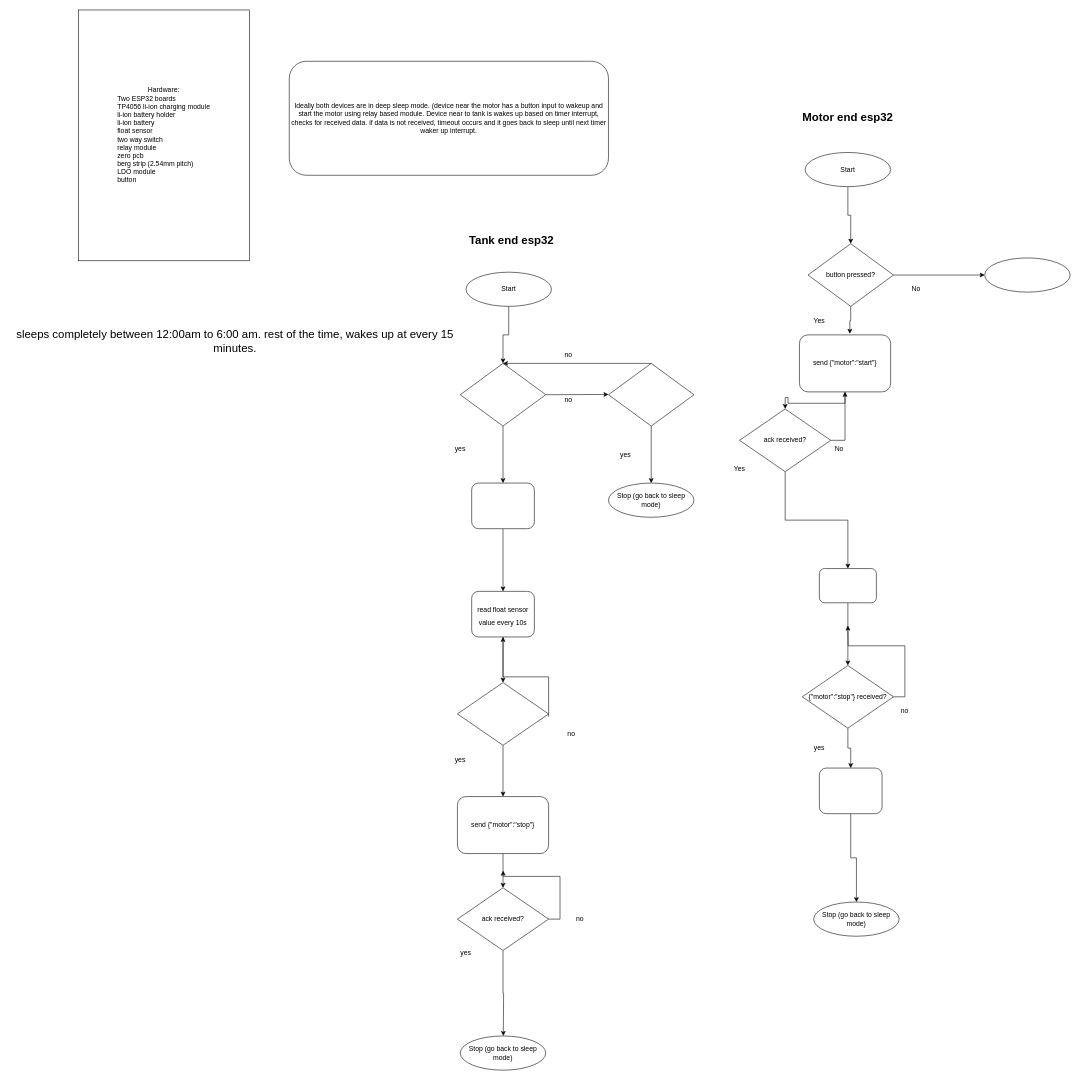
Some shapes in this 1080 by 1080 pixel diagram are drawn without their labels. Each missing label, with the centre of its shape:
exit sleep mode and send ack: pixel 502 506
start motor (enable relay switching): pixel 847 585
Stop: pixel 1027 274
stop motor and send ack: pixel 850 791
tank full?: pixel 503 713
timeout = True?: pixel 651 394
{"motor":"start"} received?: pixel 503 394
